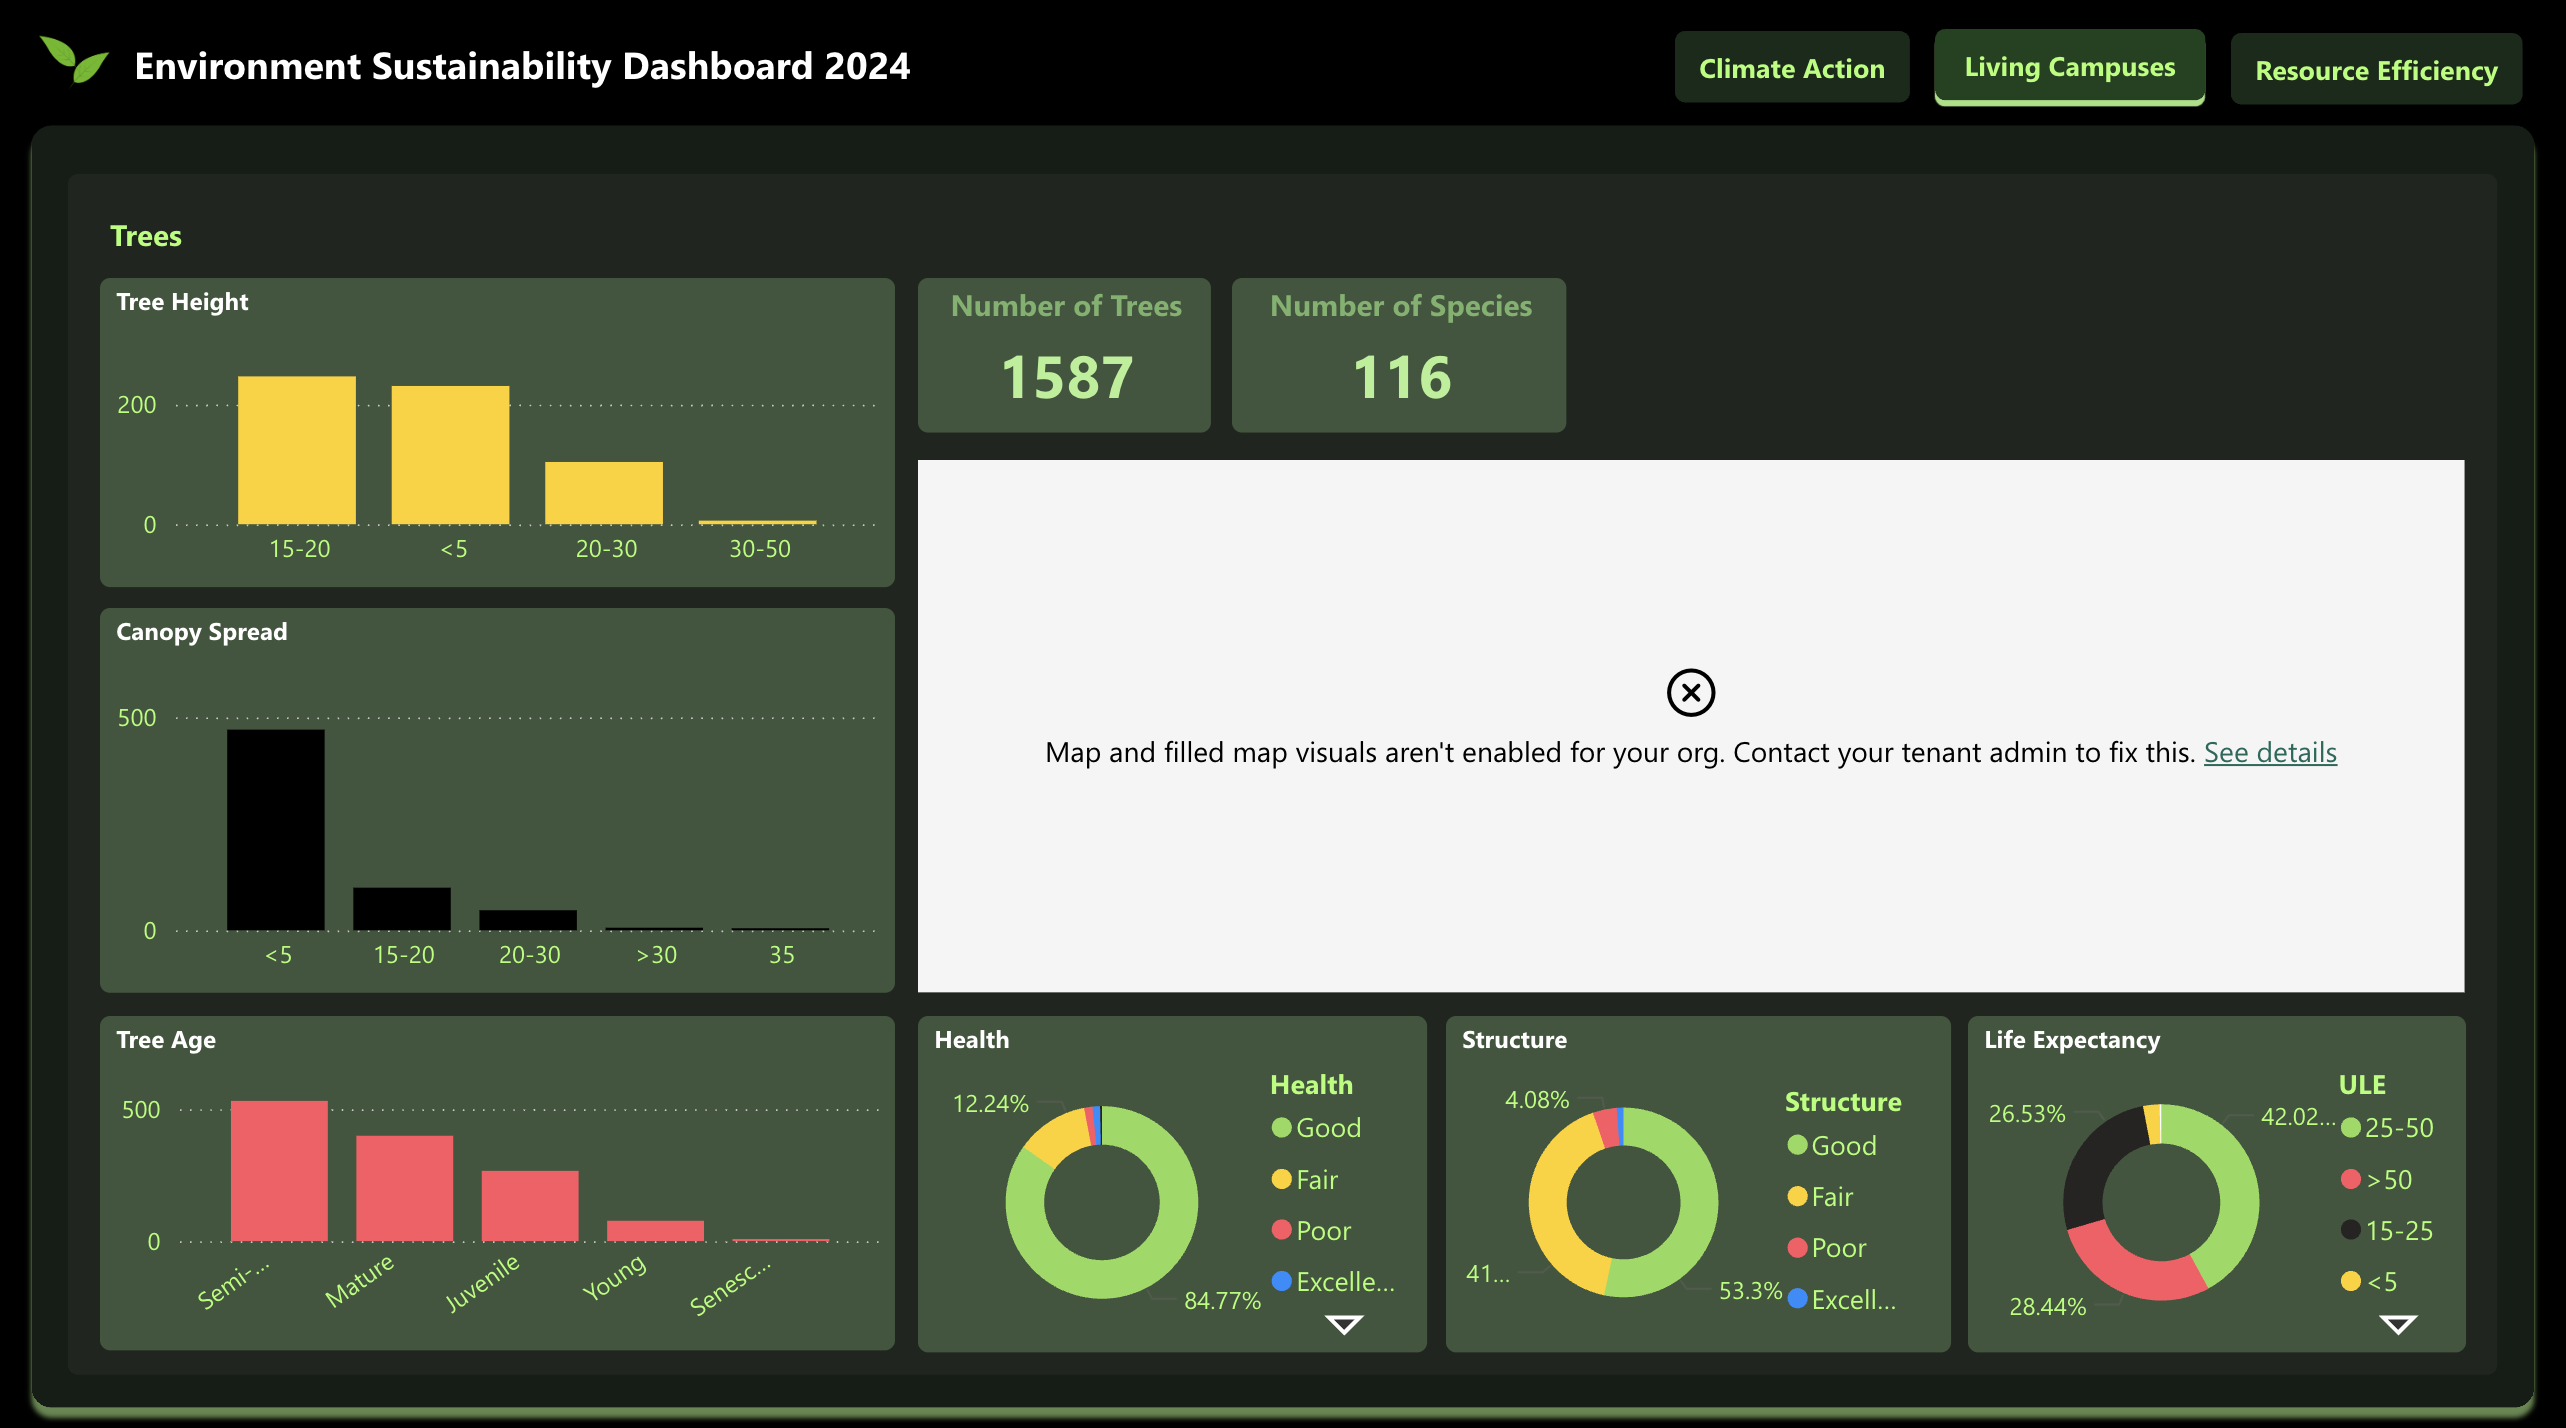

The dashboard page shown, as its layout file describes it:
{"tool":"powerbi","page":{"name":"New Layout","canvas":[1280,720],"ordinal":0},"visuals":[{"type":"shape","title":"Title_Back","box":[0,0,1280,58.4],"z":0,"group":"g3"},{"type":"shape","title":"L_Background","box":[12.9,58.7,1254.2,650],"z":0,"group":"g2"},{"type":"shape","title":"Tree_Back","box":[38.8,90.2,1202.4,594.4],"z":0,"group":"g1"},{"type":"actionButton","title":"R_Button_Dis","box":[1106.1,16.7,151.3,42.2],"z":500,"group":"g3"},{"type":"group","id":"g1","title":"Section 2","box":[38.8,90.2,1202.4,594.4],"z":1000,"group":"g2"},{"type":"textbox","title":"Trees_Title","box":[54.8,105,171.1,36.5],"z":1000,"group":"g1"},{"type":"actionButton","title":"L_Button","box":[959.7,15.3,140.8,42.2],"z":2000,"group":"g3"},{"type":"card","title":"Number of Species","fields":{"Values":["Count(tree_data_cleaned.CommonName)"]},"box":[614.9,141.5,165.4,76.4],"z":2000,"group":"g1"},{"type":"actionButton","title":"C_Button_Dis","box":[830.7,15.6,123.2,42.2],"z":2500,"group":"g3"},{"type":"group","id":"g2","title":"Section 2","box":[12.9,58.7,1254.2,650],"z":3000},{"type":"map","title":"Trees on Campus (Bubble Size - Canopy Spread, Bubble Colour - Height)","fields":{"Y":["tree_data_cleaned.Latitude"],"X":["tree_data_cleaned.Longitude"],"Size":["Avg(tree_data_cleaned.Max CanopySpread [m])"]},"box":[459.8,231.7,765.5,263.5],"z":3000,"group":"g1"},{"type":"textbox","title":"Main_Title","box":[65.7,16.4,475.2,42.2],"z":4000,"group":"g3"},{"type":"card","title":"Number of Trees","fields":{"Values":["Sum(tree_data_cleaned.QTY)"]},"box":[459.8,141.5,144.9,76.4],"z":4000,"group":"g1"},{"type":"image","title":"Logo","box":[18.8,12.9,45.8,43.4],"z":5000,"group":"g3"},{"type":"clusteredColumnChart","title":"Tree Height","fields":{"Category":["tree_data_cleaned.Height [m]"],"Y":["CountNonNull(tree_data_cleaned.TreeID)"]},"box":[54.8,141.5,393.6,152.9],"z":5000,"group":"g1"},{"type":"clusteredColumnChart","title":"Canopy Spread","fields":{"Category":["tree_data_cleaned.CanopySpread [m]"],"Y":["CountNonNull(tree_data_cleaned.TreeID)"]},"box":[54.8,304.7,393.6,190.5],"z":6000,"group":"g1"},{"type":"donutChart","title":"Health","fields":{"Category":["tree_data_cleaned.Health"],"Y":["CountNonNull(tree_data_cleaned.TreeID)"]},"box":[459.8,506.6,252.1,166.6],"z":7000,"group":"g1"},{"type":"group","id":"g3","title":"Title Section","box":[0,0,1280,58.9],"z":8000},{"type":"donutChart","title":"Structure","fields":{"Category":["tree_data_cleaned.Structure"],"Y":["CountNonNull(tree_data_cleaned.TreeID)"]},"box":[721,506.6,249.8,166.6],"z":8000,"group":"g1"},{"type":"donutChart","title":"Life Expectancy","fields":{"Category":["tree_data_cleaned.ULE"],"Y":["CountNonNull(tree_data_cleaned.TreeID)"]},"box":[978.8,506.6,246.4,166.6],"z":9000,"group":"g1"},{"type":"clusteredColumnChart","title":"Tree Age","fields":{"Category":["tree_data_cleaned.Age"],"Y":["CountNonNull(tree_data_cleaned.TreeID)"]},"box":[54.8,506.6,393.6,165.4],"z":10000,"group":"g1"}]}

Visuals, with their boxes in screenshot pixels (x1, y1, x2, y2), scaled from the page's 1280x720 canvas onto the 2566x1428 screenshot:
"Title_Back" shape: left=0, top=0, right=2565, bottom=116
"L_Background" shape: left=26, top=116, right=2540, bottom=1406
"Tree_Back" shape: left=78, top=179, right=2488, bottom=1358
"R_Button_Dis" actionButton: left=2217, top=33, right=2521, bottom=117
"Section 2" group: left=78, top=179, right=2488, bottom=1358
"Trees_Title" textbox: left=110, top=208, right=453, bottom=281
"L_Button" actionButton: left=1924, top=30, right=2206, bottom=114
"Number of Species" card: left=1233, top=281, right=1564, bottom=432
"C_Button_Dis" actionButton: left=1665, top=31, right=1912, bottom=115
"Section 2" group: left=26, top=116, right=2540, bottom=1406
"Trees on Campus (Bubble Size - Canopy Spread, Bubble Colour - Height)" map: left=922, top=460, right=2456, bottom=982
"Main_Title" textbox: left=132, top=33, right=1084, bottom=116
"Number of Trees" card: left=922, top=281, right=1212, bottom=432
"Logo" image: left=38, top=26, right=130, bottom=112
"Tree Height" clusteredColumnChart: left=110, top=281, right=899, bottom=584
"Canopy Spread" clusteredColumnChart: left=110, top=604, right=899, bottom=982
"Health" donutChart: left=922, top=1005, right=1427, bottom=1335
"Title Section" group: left=0, top=0, right=2565, bottom=117
"Structure" donutChart: left=1445, top=1005, right=1946, bottom=1335
"Life Expectancy" donutChart: left=1962, top=1005, right=2456, bottom=1335
"Tree Age" clusteredColumnChart: left=110, top=1005, right=899, bottom=1333
